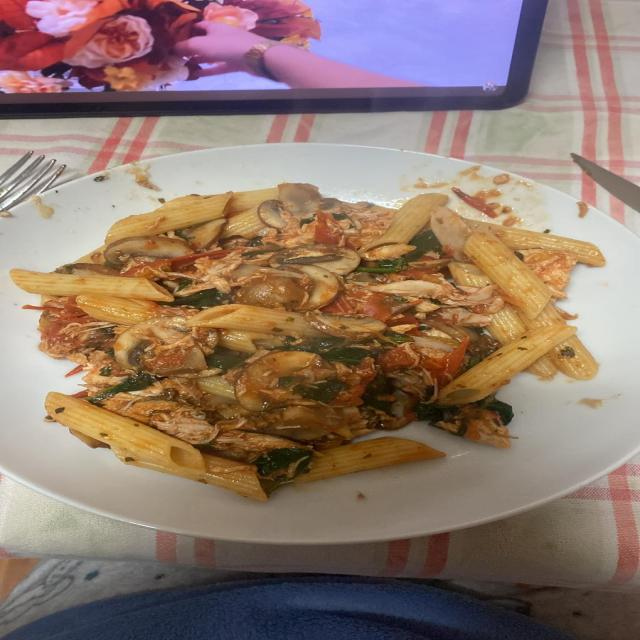chicken steak: (11, 185, 503, 460)
knife: (573, 153, 639, 213)
pasta: (305, 193, 604, 406), (45, 392, 268, 501), (100, 183, 320, 259), (10, 269, 170, 339), (291, 438, 444, 481), (186, 304, 304, 335)
plate: (0, 143, 639, 546)
